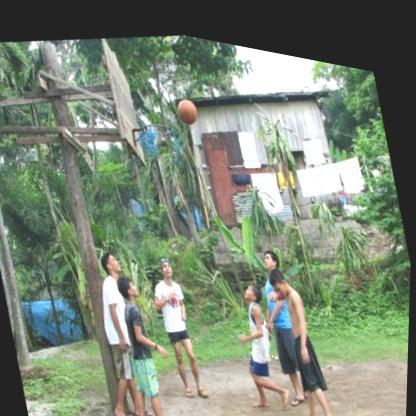basketball: (176, 88, 202, 121)
rim: (140, 110, 175, 138)
